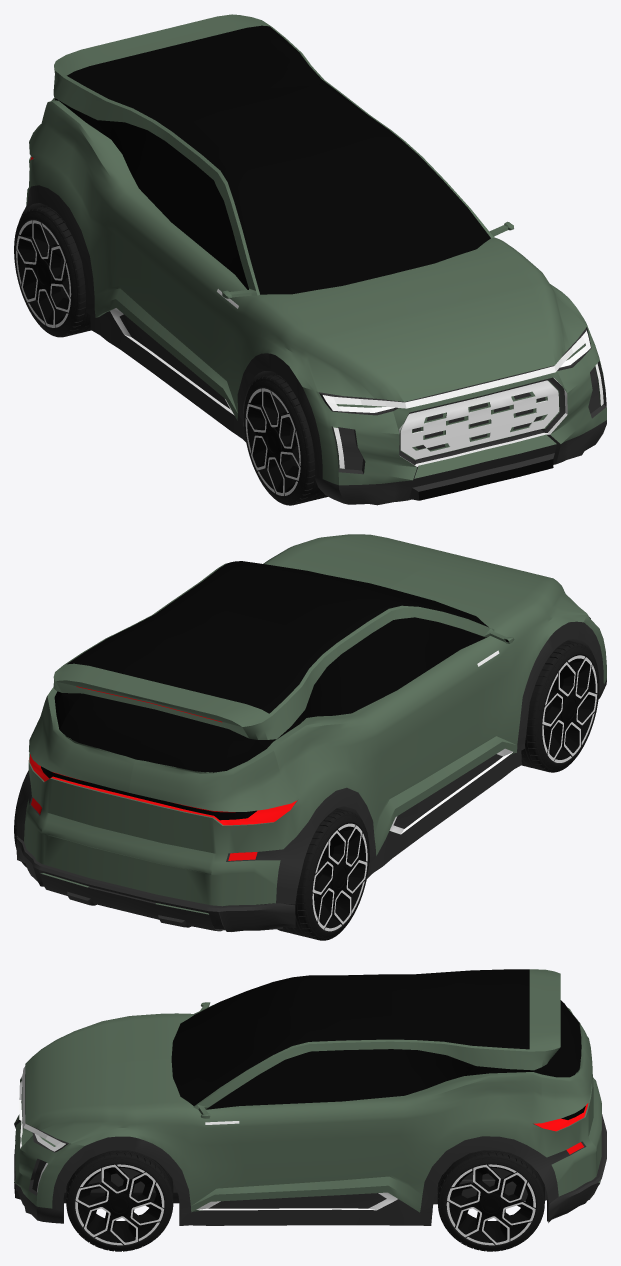
File: carr.fbx
3 renders of one model, top to bottom at view 1: azimuth 30°, elevation 25°; view 2: azimuth 150°, elevation 25°; view 3: azimuth 270°, elevation 25°, orthographic. The views are drawn at different scales.
Parts seen in each view (by area): view 1: Plane, Shape_IndexedFaceSet.003, Shape_IndexedFaceSet.002; view 2: Plane, Shape_IndexedFaceSet.003, Shape_IndexedFaceSet.002; view 3: Plane, Shape_IndexedFaceSet, Shape_IndexedFaceSet.001.
Part boxes in pixels (box(x1,y1,x2,y2)): Plane: box(19, 14, 606, 505); Shape_IndexedFaceSet.003: box(14, 205, 90, 337); Shape_IndexedFaceSet.002: box(243, 373, 327, 505); Plane: box(16, 534, 606, 931); Shape_IndexedFaceSet.003: box(277, 808, 369, 940); Shape_IndexedFaceSet.002: box(521, 640, 599, 772); Plane: box(14, 969, 606, 1225); Shape_IndexedFaceSet: box(66, 1150, 173, 1251); Shape_IndexedFaceSet.001: box(437, 1150, 544, 1251).
Size of the model in its own units: 296 by 224 by 629.
